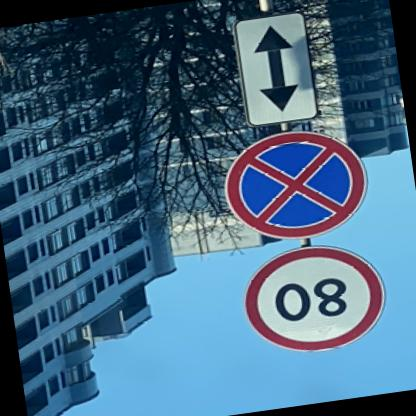speedlimit: (238, 236, 395, 360)
